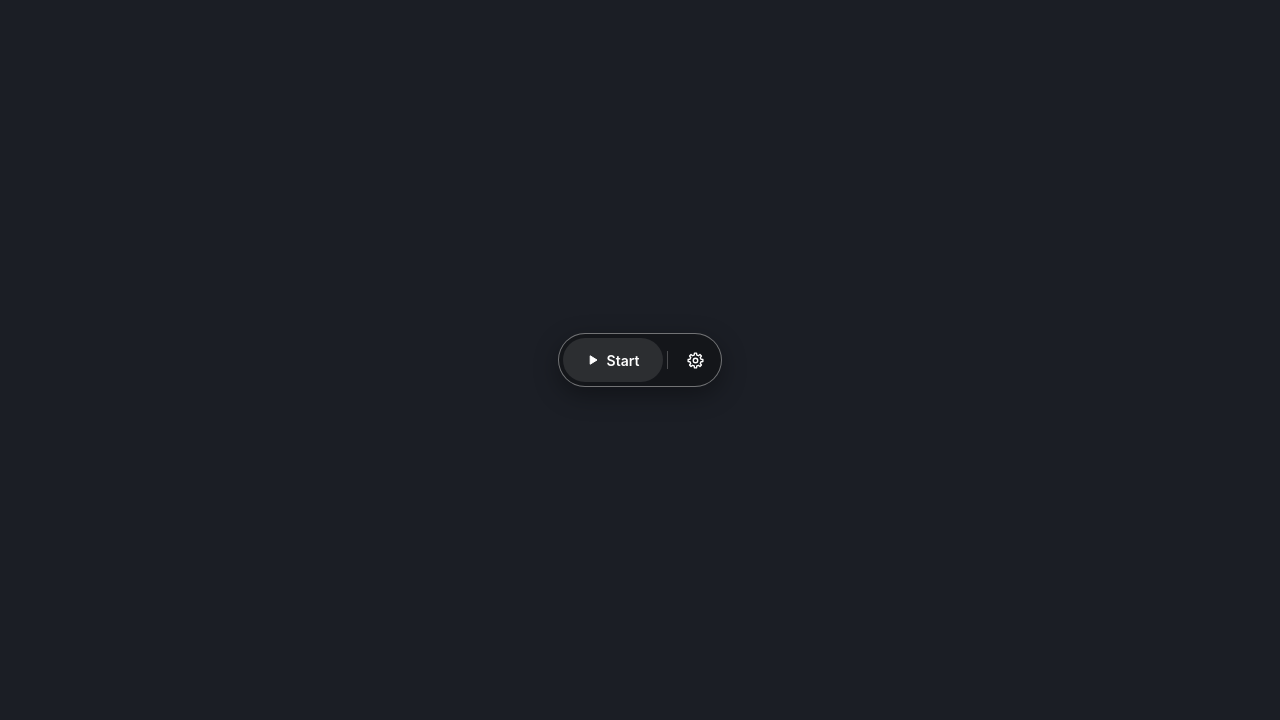
Test: save as new › submits with Enter and cancels with Escape without closing the panel
The width and height of the screenshot is (1280, 720).
Type keys "s"
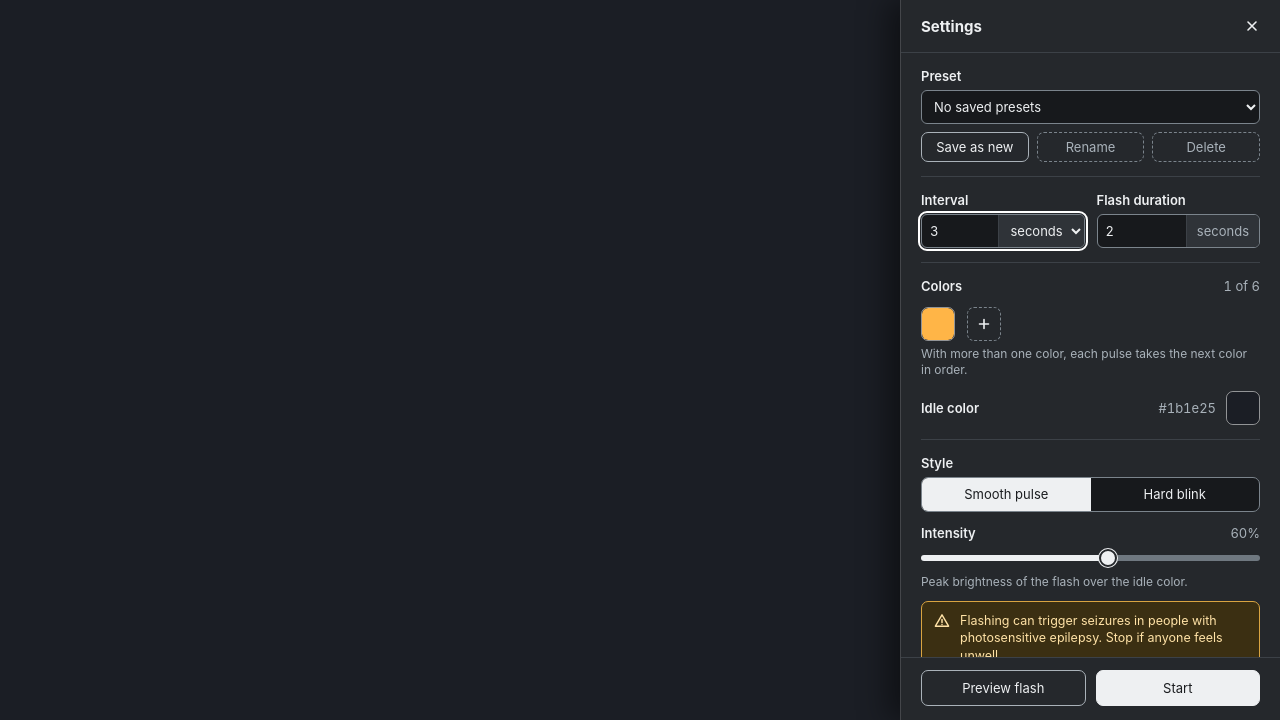
Click the button "Save as new" at x=975, y=147, box [921, 132, 1029, 162]
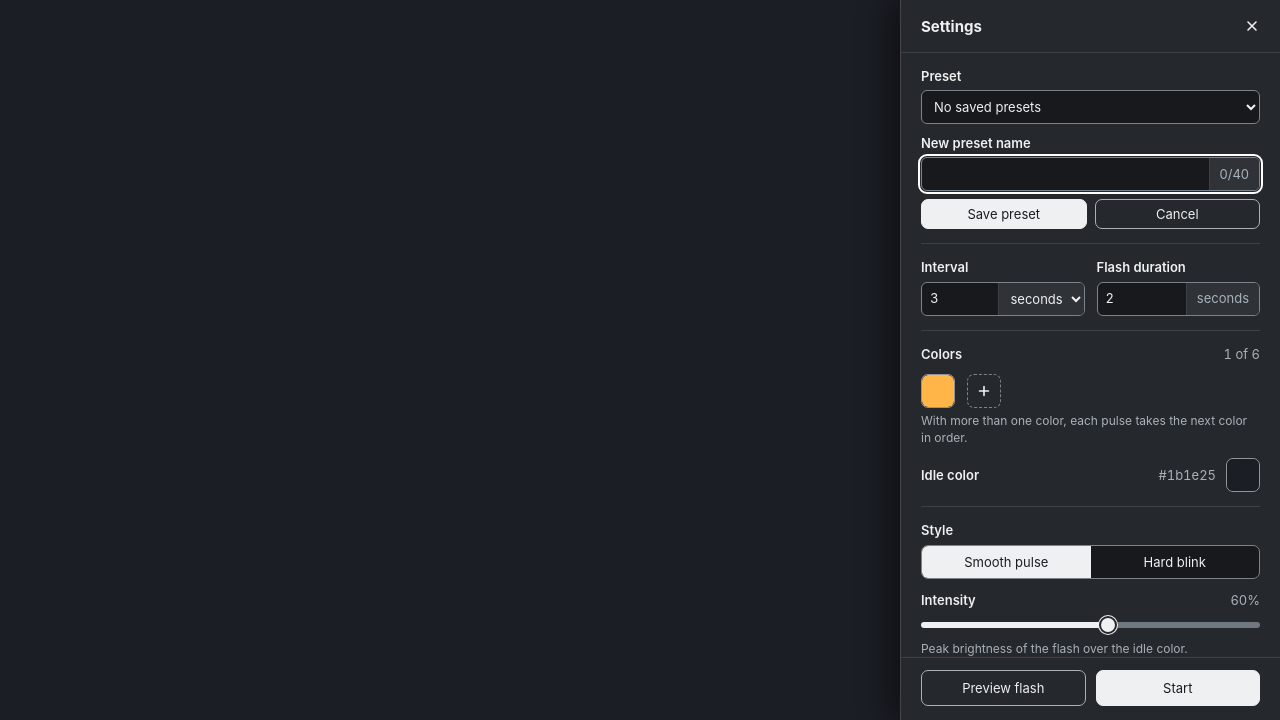
Type "Quick" into the field at x=1065, y=174, box [922, 158, 1208, 190]
Then press Enter
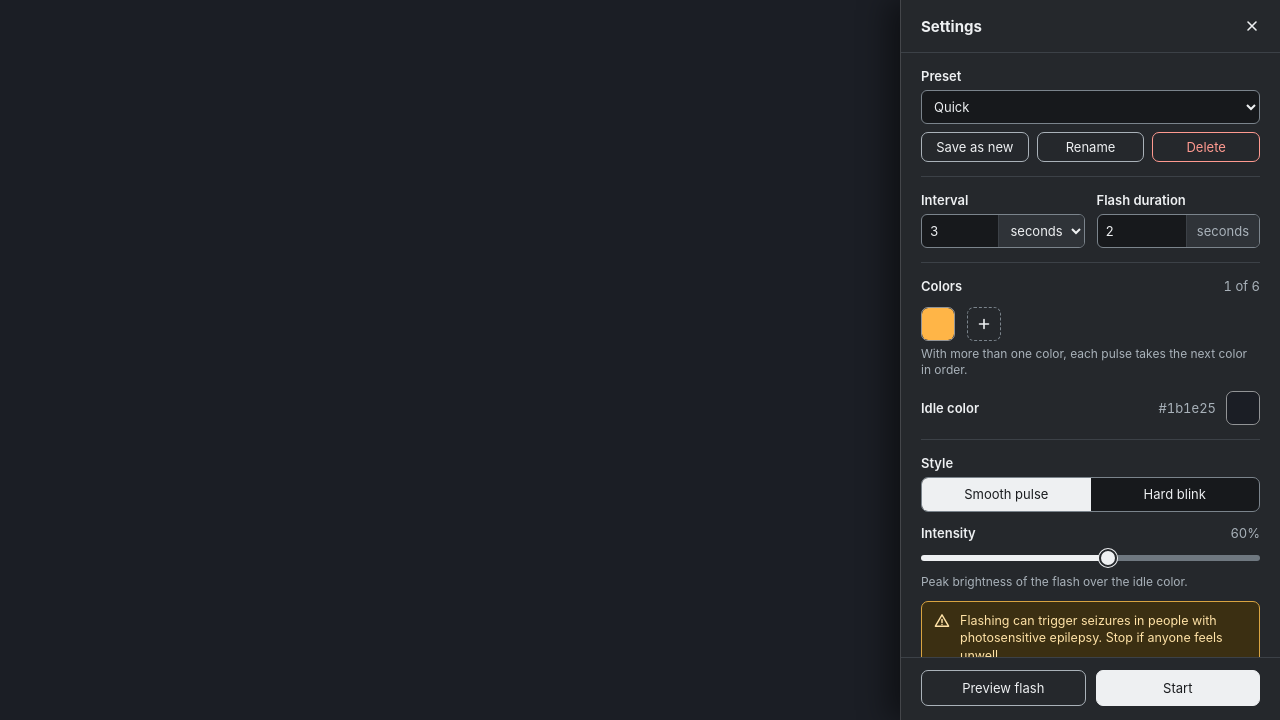
Click the button "Save as new" at x=975, y=147, box [921, 132, 1029, 162]
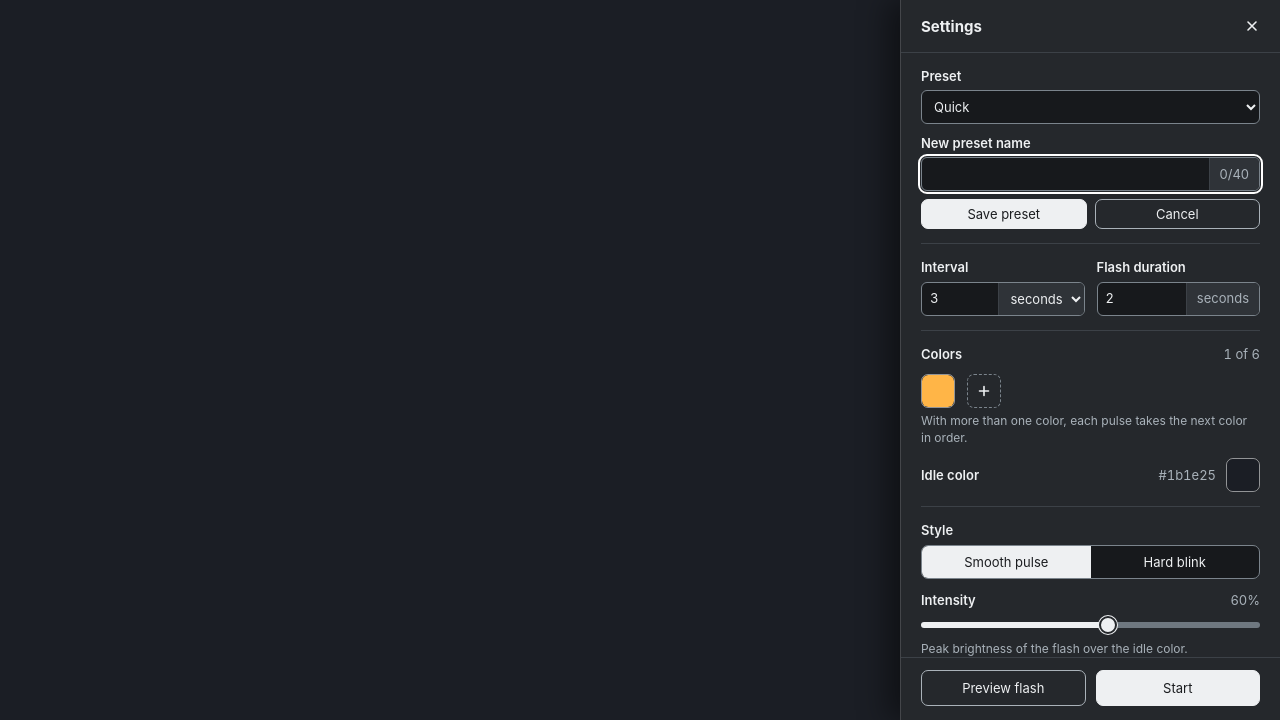
Type "Never" into the field at x=1065, y=174, box [922, 158, 1208, 190]
Then press Escape
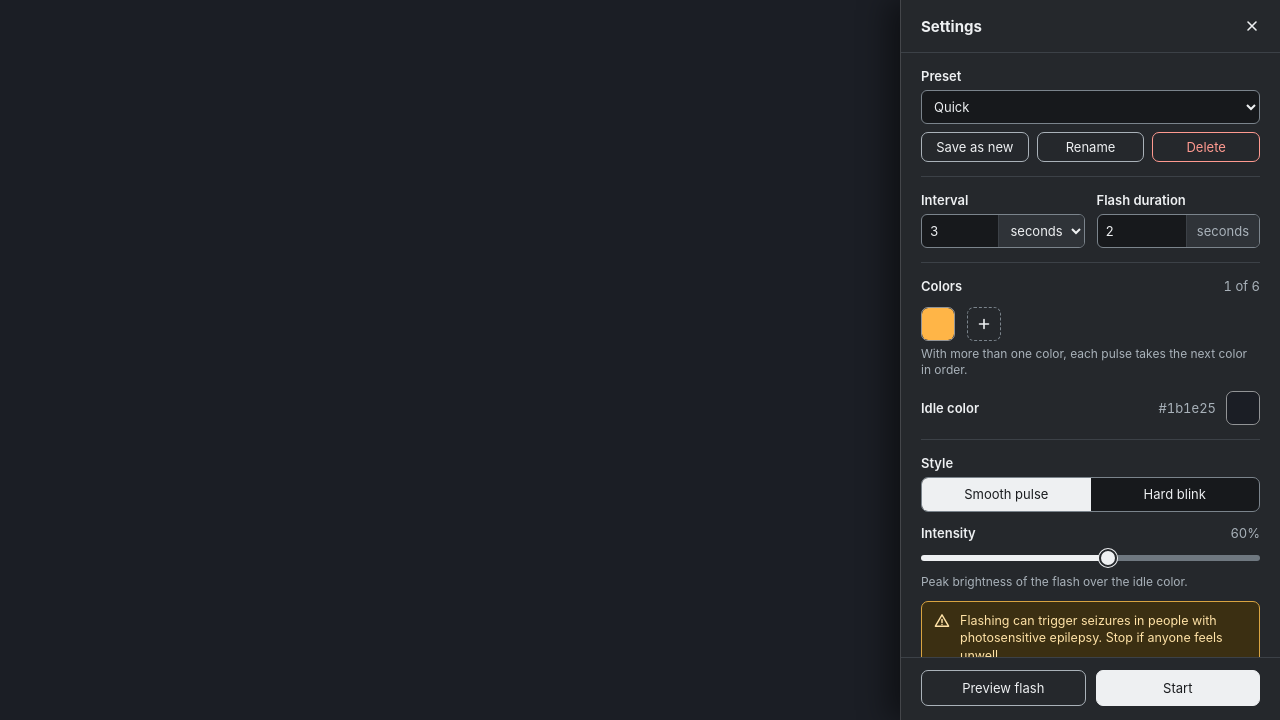
Now the dialog "Settings" is shown, box [900, 0, 1279, 719]
Now the field is gone
